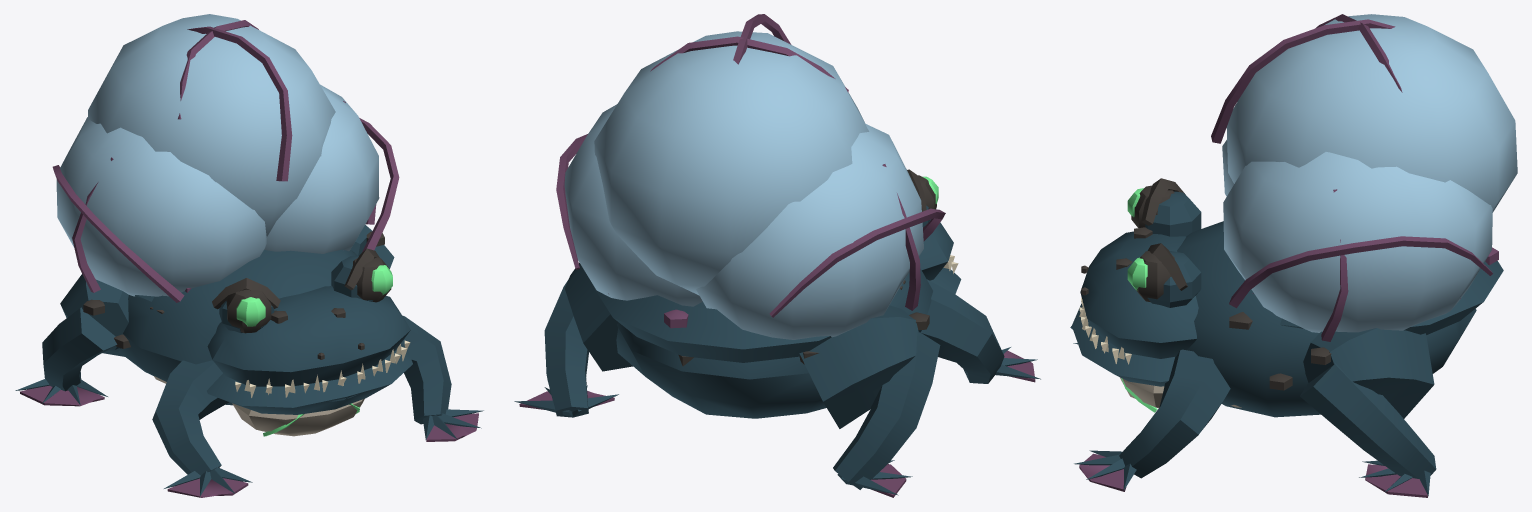
The model's file is Monster_BloatToad.fbx.
The picture shows the model from 3 angles, left to right: view 1: azimuth 30°, elevation 25°; view 2: azimuth 150°, elevation 25°; view 3: azimuth 270°, elevation 25°; orthographic projection. The views are drawn at different scales.
Parts seen in each view (by area): view 1: SacTop, Body, SacRight, SacLeft, RightLeg, RightArm, Jaw, LeftArm, SacTop_, SacRight_, Throat, SacLeft_ (+2 smaller); view 2: SacTop, SacRight, Body, RightLeg, SacLeft, LeftLeg, RightArm, SacRight_, SacTop_, SacLeft_; view 3: SacTop, SacLeft, Body, LeftLeg, LeftArm, SacLeft_, SacTop_, Jaw, HeadGlow, Throat.
Part boxes in pixels (box(x1,y1,x2,y2)): SacTop: box(88, 14, 335, 237); Body: box(114, 248, 410, 405); SacRight: box(56, 117, 266, 296); SacLeft: box(264, 84, 379, 253); RightLeg: box(15, 274, 128, 406); RightArm: box(152, 360, 252, 497); Jaw: box(207, 343, 412, 414); LeftArm: box(401, 315, 483, 441); SacTop_: box(178, 20, 292, 181); SacRight_: box(52, 157, 184, 302); Throat: box(232, 398, 364, 436); SacLeft_: box(343, 101, 399, 252); SacTop: box(594, 31, 869, 295); SacRight: box(696, 124, 923, 339); Body: box(592, 169, 958, 418); RightLeg: box(799, 305, 940, 497); SacLeft: box(564, 104, 702, 306); LeftLeg: box(514, 262, 632, 417); RightArm: box(921, 279, 1040, 383); SacRight_: box(769, 164, 945, 317); SacTop_: box(650, 14, 848, 92); SacLeft_: box(556, 134, 587, 269); SacTop: box(1226, 14, 1517, 212); SacLeft: box(1223, 152, 1492, 332); Body: box(1079, 178, 1503, 417); LeftLeg: box(1300, 328, 1436, 497); LeftArm: box(1074, 349, 1230, 491); SacLeft_: box(1229, 189, 1492, 341); SacTop_: box(1211, 14, 1402, 143); Jaw: box(1070, 303, 1174, 386); HeadGlow: box(1127, 188, 1147, 290); Throat: box(1120, 377, 1164, 407).
Bounding box in the file's own units: 4.79 × 4.72 × 4.88.
